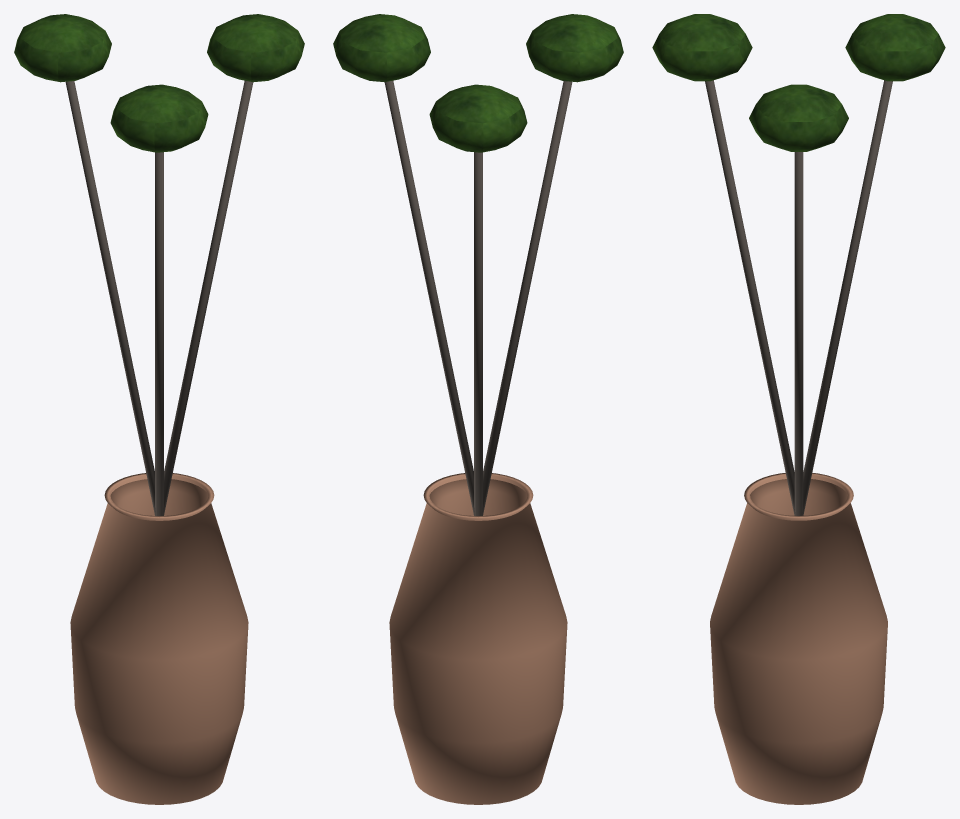
Rendered from living_vase.glb.
3 views of the same model, side by side, from view 1: azimuth 30°, elevation 25°; view 2: azimuth 150°, elevation 25°; view 3: azimuth 270°, elevation 25° (orthographic).
Visible parts, largest first — view 1: living_vase; view 2: living_vase; view 3: living_vase.
Boxes of the visible parts, x1,y1,x2,y2 form: living_vase: (14, 14, 304, 804); living_vase: (333, 14, 623, 804); living_vase: (652, 14, 945, 804).
Size of the model in its own units: 0.2356 by 0.727 by 0.2632.
Materials: 3 (1 with a texture image).
